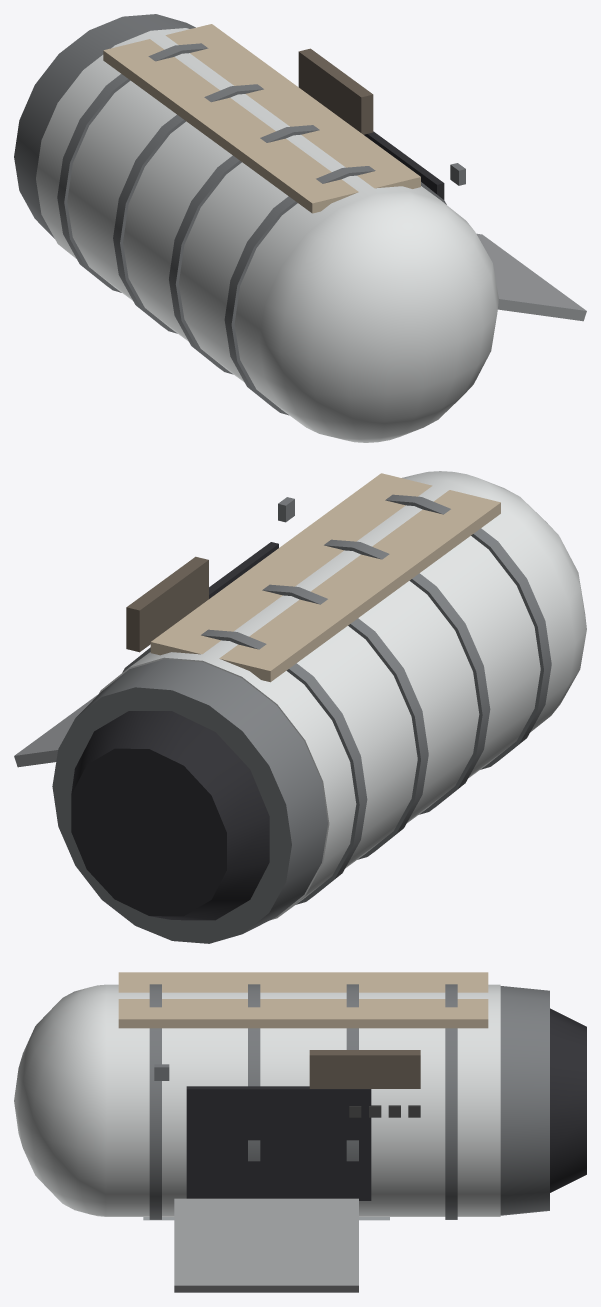
The model's file is ring_capsule_open.glb.
The picture shows the model from 3 angles, top to bottom: view 1: azimuth 30°, elevation 25°; view 2: azimuth 150°, elevation 25°; view 3: azimuth 270°, elevation 25°; orthographic projection. The views are drawn at different scales.
Visible parts, largest first — view 1: cap_hull.001, cap_hull, cap_dust, cap_rib, cap_hatch, cap_scorch, cap_rib.004, cap_rib.001, cap_rib.002, cap_rib.003, cap_dark.001; view 2: cap_hull, cap_dark, cap_rib, cap_dust, cap_hull.001, cap_scorch, cap_rib.001, cap_rib.002, cap_rib.004, cap_rib.003, cap_hatch, cap_dark.001; view 3: cap_hull, cap_dark.001, cap_dust, cap_hatch, cap_hull.001, cap_rib, cap_dark, cap_scorch, cap_rib.001, cap_rib.004, cap_rib.003, cap_rib.002.
Boxes of the visible parts, <box> form: cap_hull.001: <box>259,191,498,442</box>; cap_hull: <box>36,28,440,424</box>; cap_dust: <box>103,24,420,213</box>; cap_rib: <box>14,14,195,238</box>; cap_hatch: <box>476,233,586,321</box>; cap_scorch: <box>298,48,373,134</box>; cap_rib.004: <box>224,166,446,415</box>; cap_rib.001: <box>57,43,208,292</box>; cap_rib.002: <box>113,84,263,333</box>; cap_rib.003: <box>169,125,319,374</box>; cap_dark.001: <box>364,131,444,199</box>; cap_hull: <box>98,477,575,920</box>; cap_dark: <box>71,711,269,920</box>; cap_rib: <box>52,659,327,943</box>; cap_dust: <box>150,473,500,682</box>; cap_hull.001: <box>402,471,586,714</box>; cap_scorch: <box>126,556,208,652</box>; cap_rib.001: <box>122,629,367,904</box>; cap_rib.002: <box>262,584,428,859</box>; cap_rib.004: <box>385,494,551,769</box>; cap_rib.003: <box>324,539,490,814</box>; cap_hatch: <box>14,694,98,767</box>; cap_dark.001: <box>209,542,278,598</box>; cap_hull: <box>106,984,500,1216</box>; cap_dark.001: <box>186,1086,371,1200</box>; cap_dust: <box>118,972,488,1028</box>; cap_hatch: <box>174,1198,358,1292</box>; cap_hull.001: <box>14,984,106,1216</box>; cap_rib: <box>500,986,549,1215</box>; cap_dark: <box>550,1008,586,1192</box>; cap_scorch: <box>309,1050,420,1088</box>; cap_rib.001: <box>445,984,457,1219</box>; cap_rib.004: <box>149,984,161,1219</box>; cap_rib.003: <box>248,984,260,1161</box>; cap_rib.002: <box>346,984,358,1161</box>.
Size of the model in its own units: 3.06 by 1.95 by 4.65.
